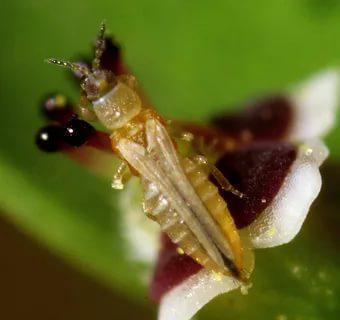tiny_pests: (37, 10, 287, 301)
